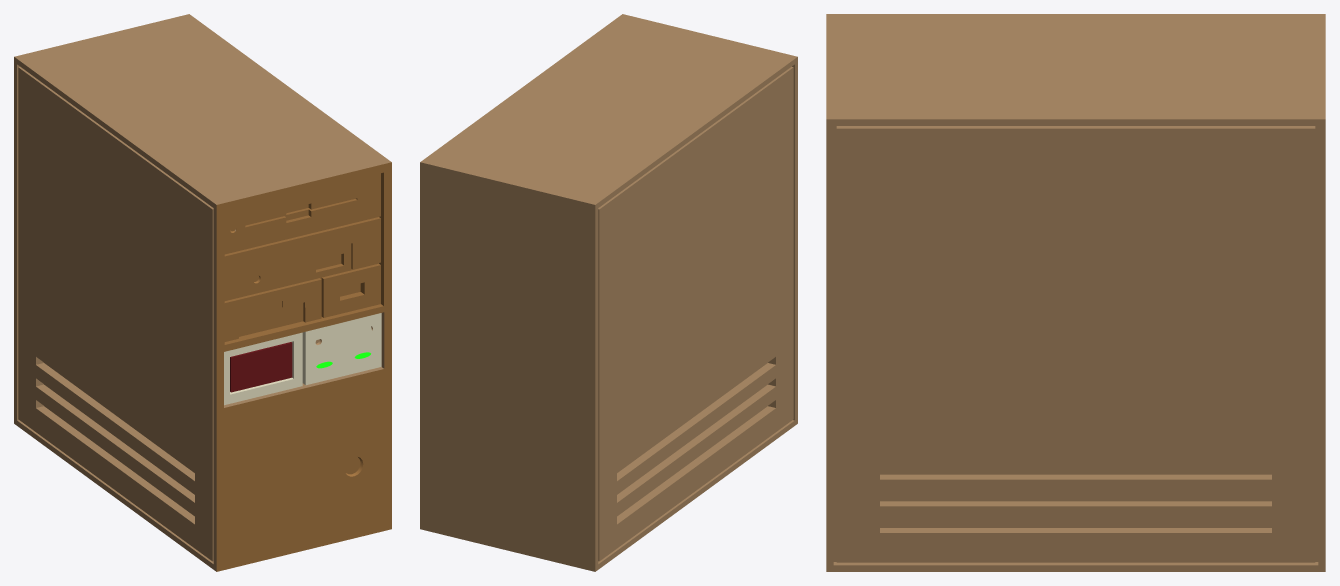
Rendered from workstation_tier3.fbx.
3 views of the same model, side by side, from view 1: azimuth 30°, elevation 25°; view 2: azimuth 150°, elevation 25°; view 3: azimuth 270°, elevation 25° (orthographic). The views are drawn at different scales.
Visible parts, largest first — view 1: Cube, Cube.001; view 2: Cube; view 3: Cube.
Part boxes in pixels (x1=…): Cube: x1=14, y1=14, x2=391, y2=571; Cube.001: x1=230, y1=342, x2=292, y2=392; Cube: x1=420, y1=14, x2=797, y2=571; Cube: x1=826, y1=14, x2=1325, y2=571.
Bounding box in the file's own units: 0.4262 × 0.8533 × 0.8533.
